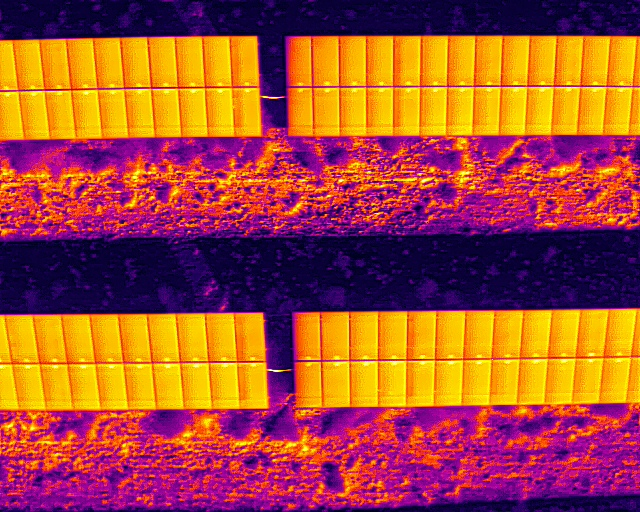photovoltaic_panels: (283, 33, 638, 136), (289, 307, 636, 407), (1, 34, 263, 140), (2, 310, 271, 413)
